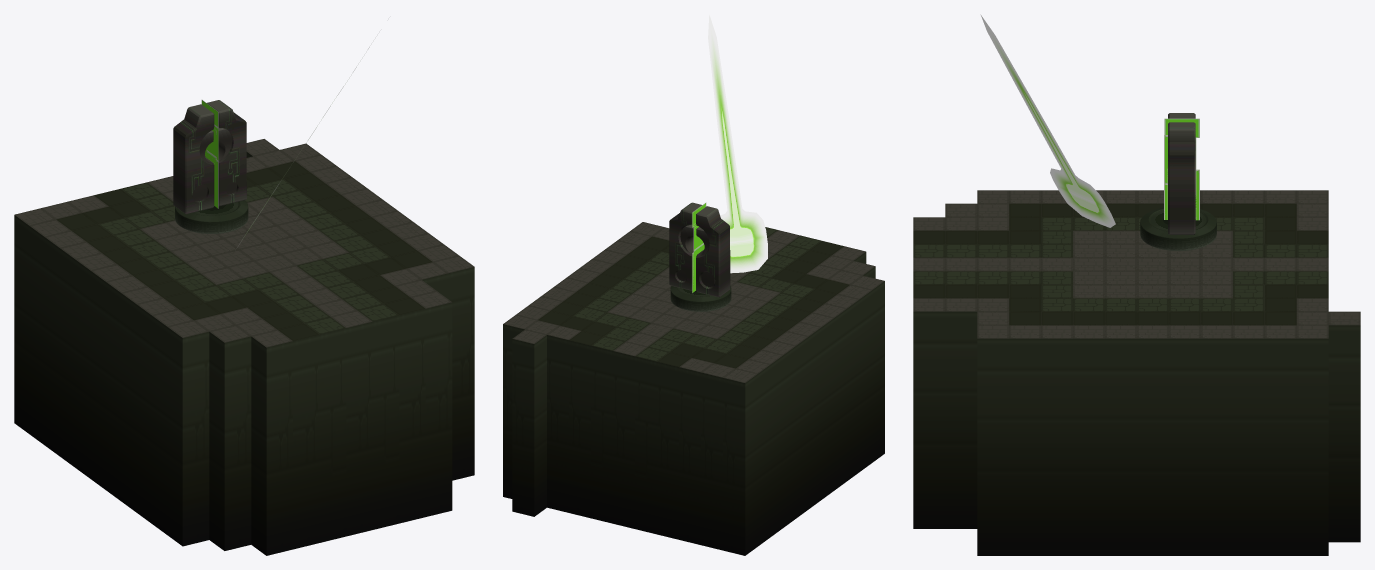
File: room_boss.fbx
3 views of the same model, side by side, from view 1: azimuth 30°, elevation 25°; view 2: azimuth 150°, elevation 25°; view 3: azimuth 270°, elevation 25° (orthographic). The views are drawn at different scales.
Parts seen in each view (by area): view 1: base (×2), piece_target (1), piece_target (2); view 2: base (×2), fx_light_item, piece_target (1), piece_target (2); view 3: base (×2), piece_target (1), fx_light_item.
Part boxes in pixels (x1,y1,x2,y2): base (×2): (14, 139, 474, 555); piece_target (1): (173, 100, 246, 214); piece_target (2): (192, 127, 236, 201); base (×2): (503, 222, 884, 555); fx_light_item: (708, 15, 767, 273); piece_target (1): (669, 202, 730, 297); piece_target (2): (680, 224, 714, 286); base (×2): (913, 190, 1360, 555); piece_target (1): (1168, 113, 1195, 234); fx_light_item: (980, 14, 1115, 227).
Bounding box in the file's own units: 11 × 17.28 × 14.
6 materials, 6 textured.
